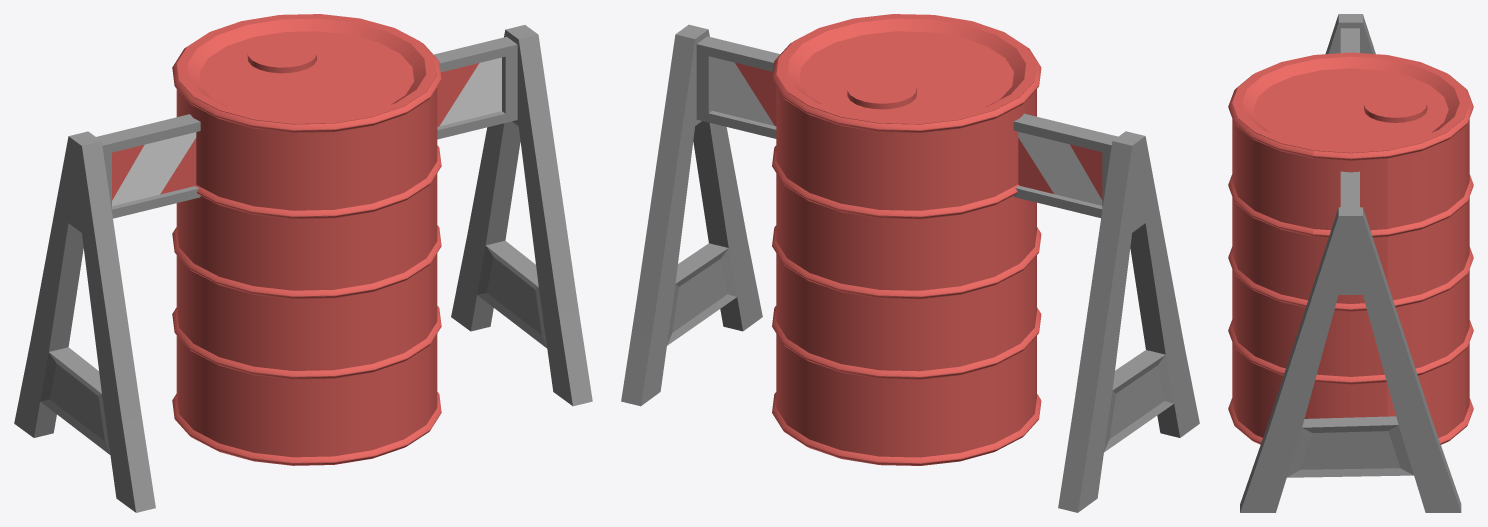
Rendered from Obstacles.fbx.
3 renders of one model, left to right at view 1: azimuth 30°, elevation 25°; view 2: azimuth 150°, elevation 25°; view 3: azimuth 270°, elevation 25°, orthographic. The views are drawn at different scales.
Visible parts, largest first — view 1: Barrel, Barrier; view 2: Barrel, Barrier; view 3: Barrel, Barrier.
Boxes of the visible parts, x1,y1,x2,y2 form: Barrel: (172, 14, 441, 465); Barrier: (14, 25, 592, 512); Barrel: (772, 14, 1041, 465); Barrier: (621, 24, 1199, 512); Barrel: (1228, 52, 1473, 444); Barrier: (1240, 14, 1461, 512).
Size of the model in its own units: 7340 by 5262 by 3769.
